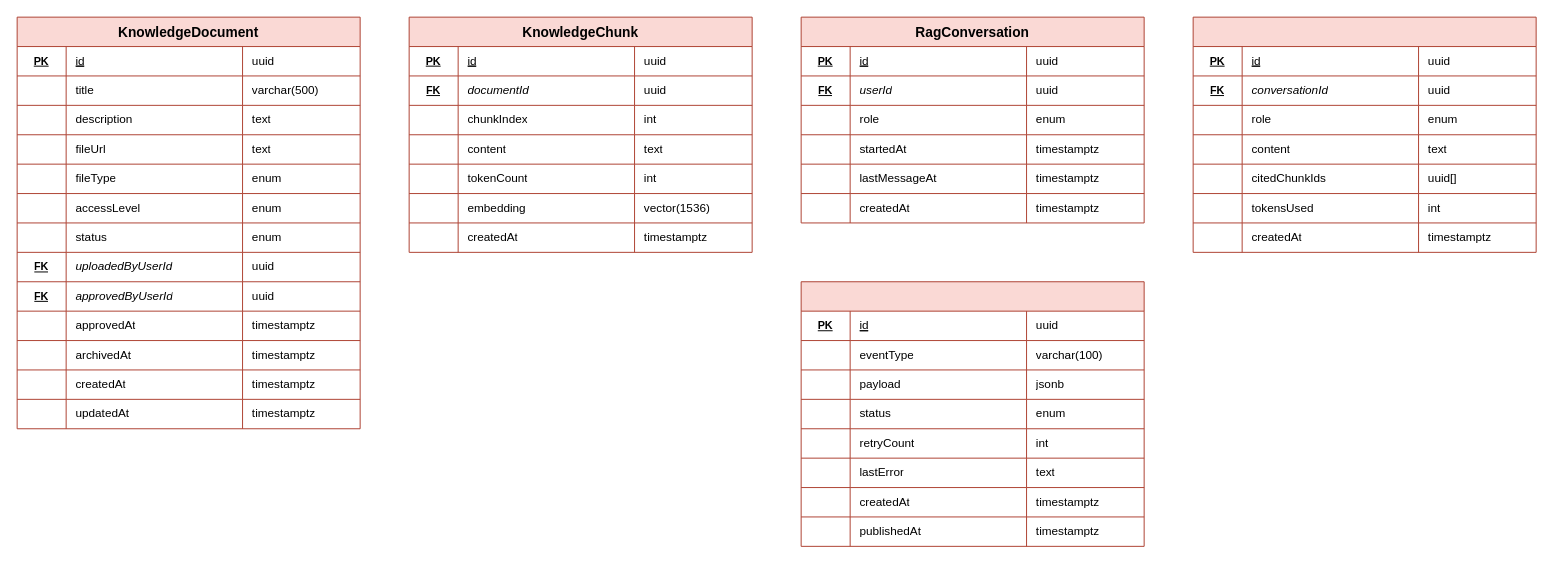
This 1553x564 diagram has some shape labels left out. The box of each missing label's shape, as (x1, y1, x2, y2) in pixels:
OutboxEvent: (800, 281, 1144, 546)
RagMessage: (1192, 16, 1536, 252)
